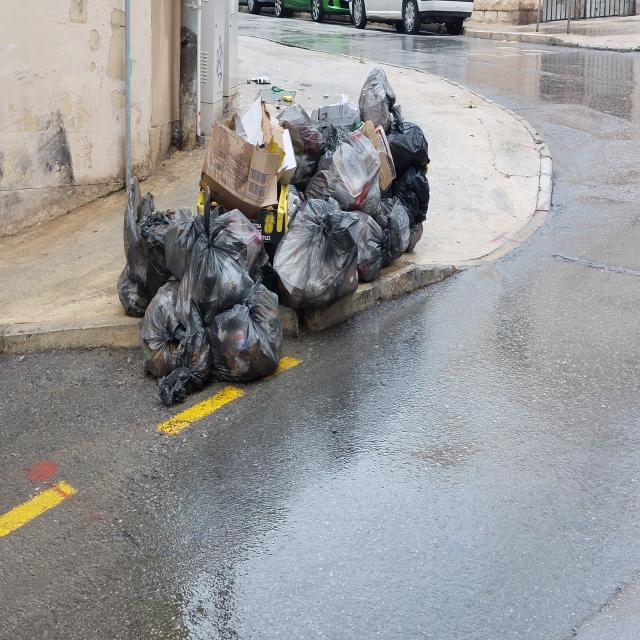Mixed Waste -Black Bag-: (123, 191, 283, 384), (274, 196, 387, 308), (277, 98, 388, 201), (386, 118, 431, 221)
